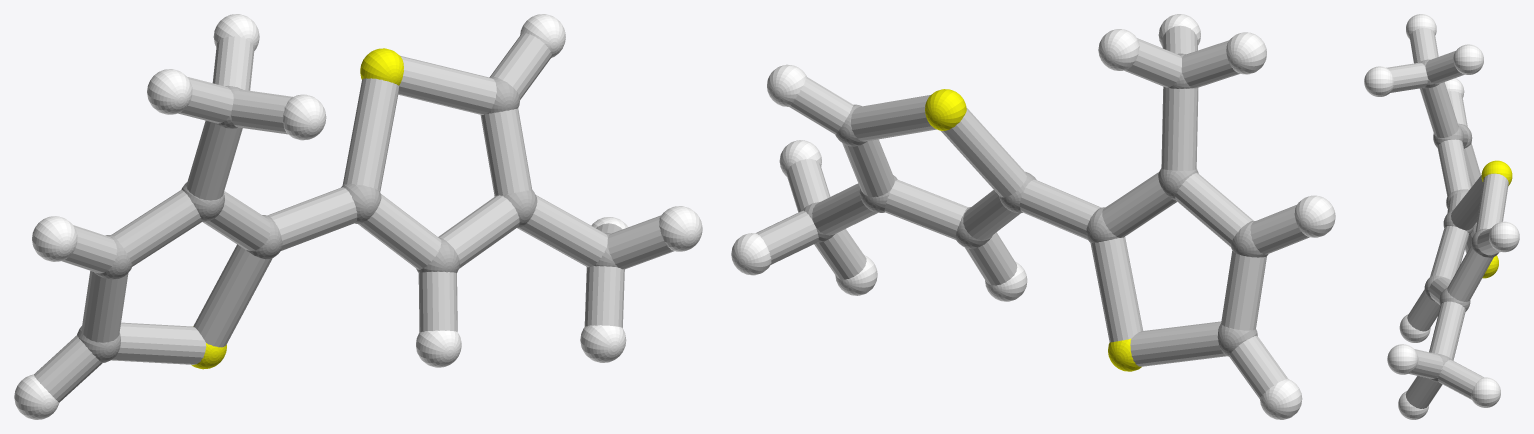
File: Methylthiophene_Phi_10_Theta_320_Methylthiophene.glb
3 views of the same model, side by side, from view 1: azimuth 30°, elevation 25°; view 2: azimuth 150°, elevation 25°; view 3: azimuth 270°, elevation 25° (orthographic). The views are drawn at different scales.
Visible parts, largest first — view 1: grp7965, grp3621, grp1, grp7241; view 2: grp7965, grp3621, grp1, grp7241; view 3: grp7965, grp3621, grp1, grp7241.
Part boxes in pixels (x1,y1,x2,y2): grp7965: [34, 33, 674, 402]; grp3621: [14, 14, 702, 419]; grp1: [77, 77, 617, 362]; grp7241: [191, 48, 403, 369]; grp7965: [756, 25, 1309, 398]; grp3621: [731, 14, 1335, 419]; grp1: [802, 53, 1268, 356]; grp7241: [925, 89, 1141, 371]; grp7965: [1386, 28, 1508, 408]; grp3621: [1364, 14, 1519, 419]; grp1: [1419, 59, 1498, 382]; grp7241: [1481, 160, 1512, 278].
Bounding box in the file's own units: 9.5 × 5.68 × 3.01.
